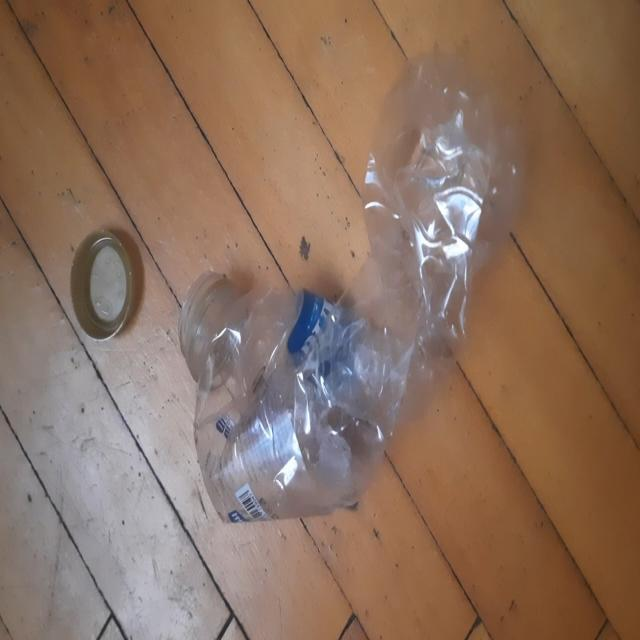Plastic: (187, 50, 515, 524)
